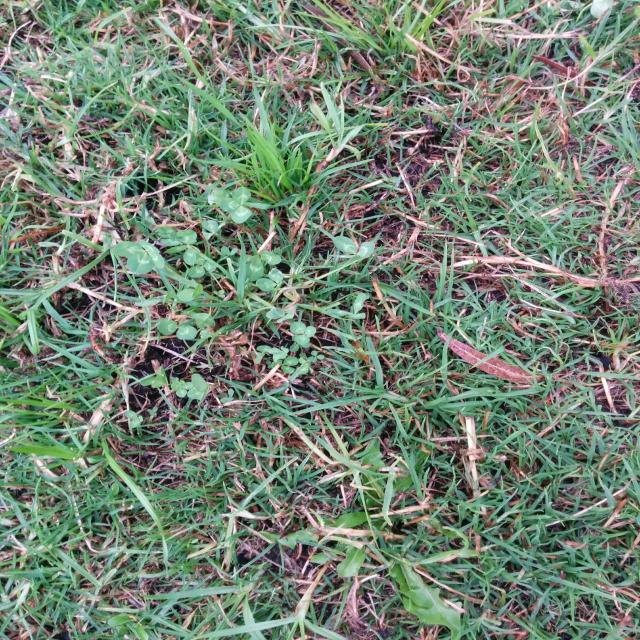Four Leaf Clover: (113, 240, 165, 274)
